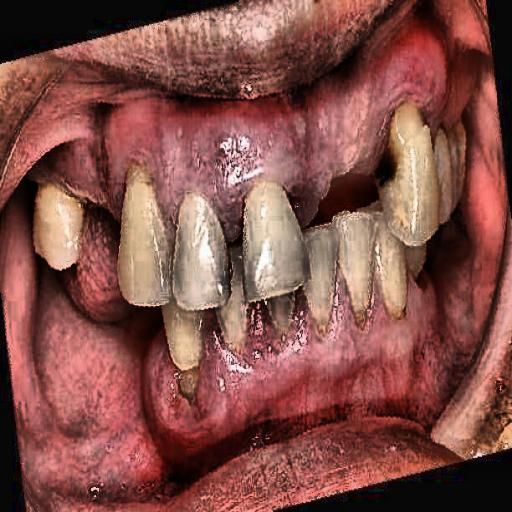Gingivitis: (129, 307, 453, 456), (49, 68, 322, 211), (324, 36, 487, 180)
